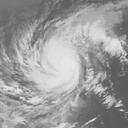cyclone: (15, 25, 91, 108)
